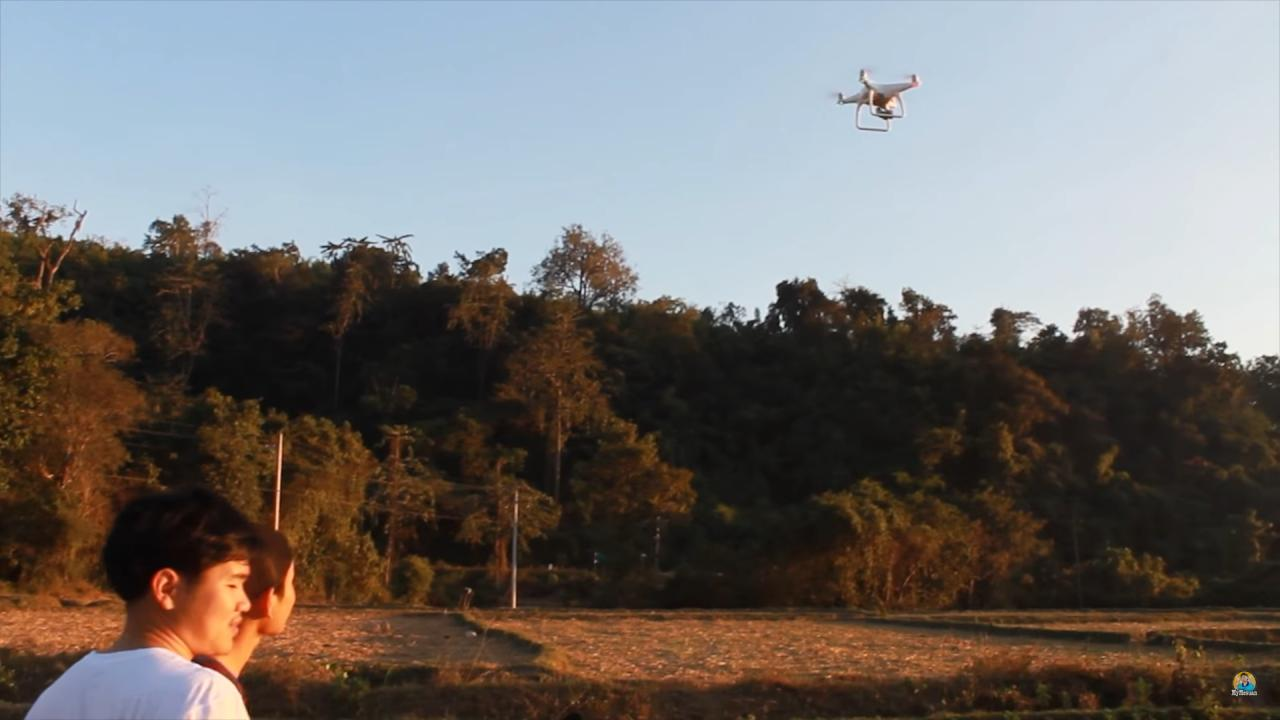Drone: (819, 54, 932, 147)
